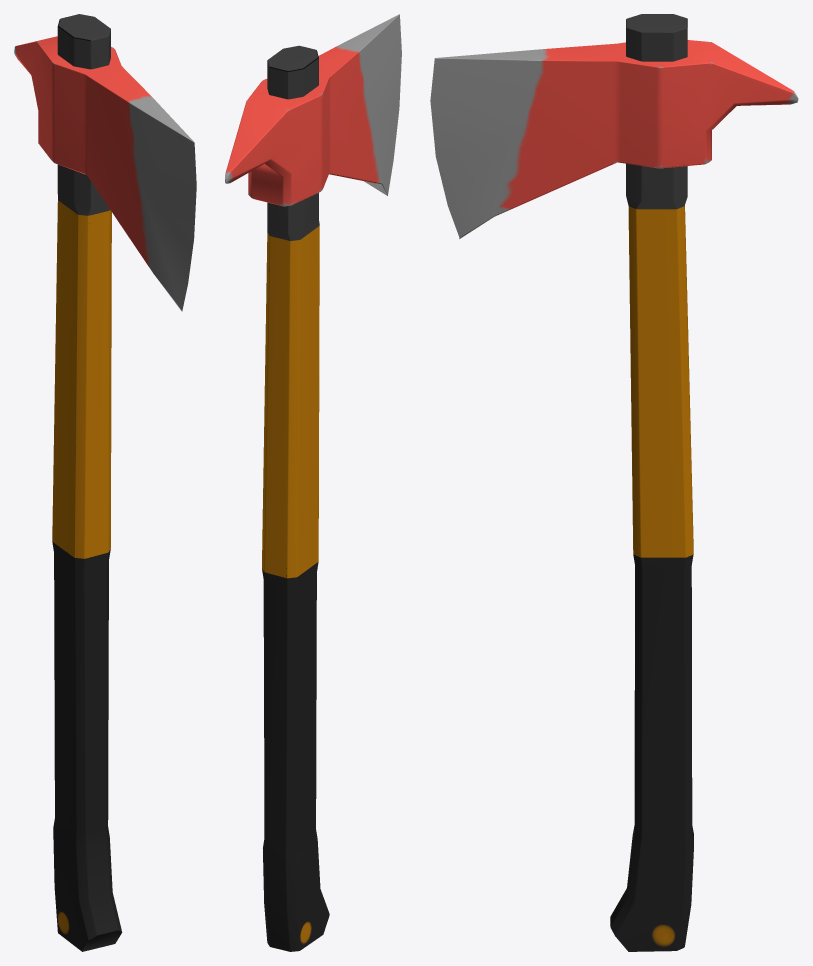
Rendered from axe.glb.
The picture shows the model from 3 angles, left to right: view 1: azimuth 30°, elevation 25°; view 2: azimuth 150°, elevation 25°; view 3: azimuth 270°, elevation 25°; orthographic projection. The views are drawn at different scales.
Parts seen in each view (by area): view 1: Axe; view 2: Axe; view 3: Axe.
Boxes of the visible parts, box(x1,y1,x2,y2) form: Axe: box(14, 14, 196, 951); Axe: box(225, 14, 401, 951); Axe: box(430, 14, 798, 951).
Size of the model in its own units: 0.0757 by 1.09 by 0.3933.
1 material, 1 textured.
